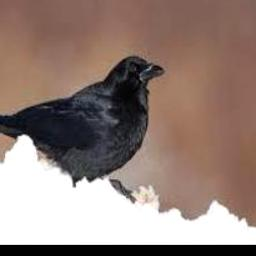Crow: (0, 56, 166, 207)
